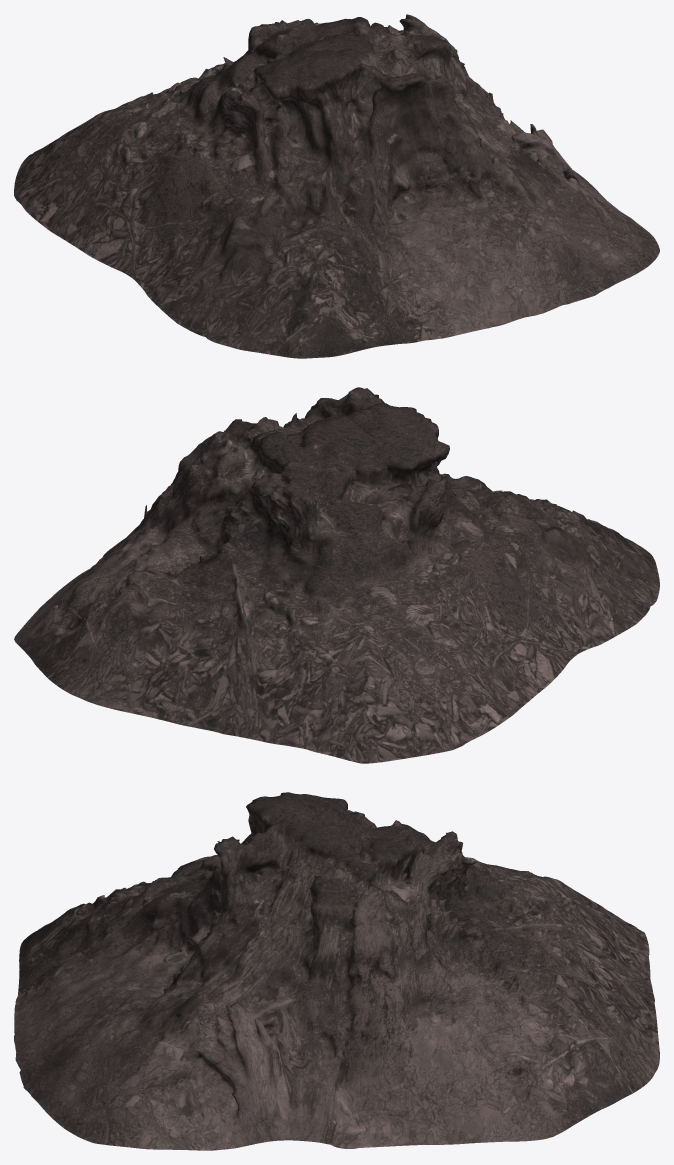
The model's file is tree_stump_01.gltf.
3 renders of one model, top to bottom at view 1: azimuth 30°, elevation 25°; view 2: azimuth 150°, elevation 25°; view 3: azimuth 270°, elevation 25°, orthographic. The views are drawn at different scales.
Parts seen in each view (by area): view 1: tree_stump_01; view 2: tree_stump_01; view 3: tree_stump_01.
Part boxes in pixels (<box>): tree_stump_01: <box>14,14,659,358</box>; tree_stump_01: <box>14,387,659,763</box>; tree_stump_01: <box>14,792,659,1150</box>.
Size of the model in its own units: 1.43 by 0.5727 by 1.59.
1 material, 1 textured.
